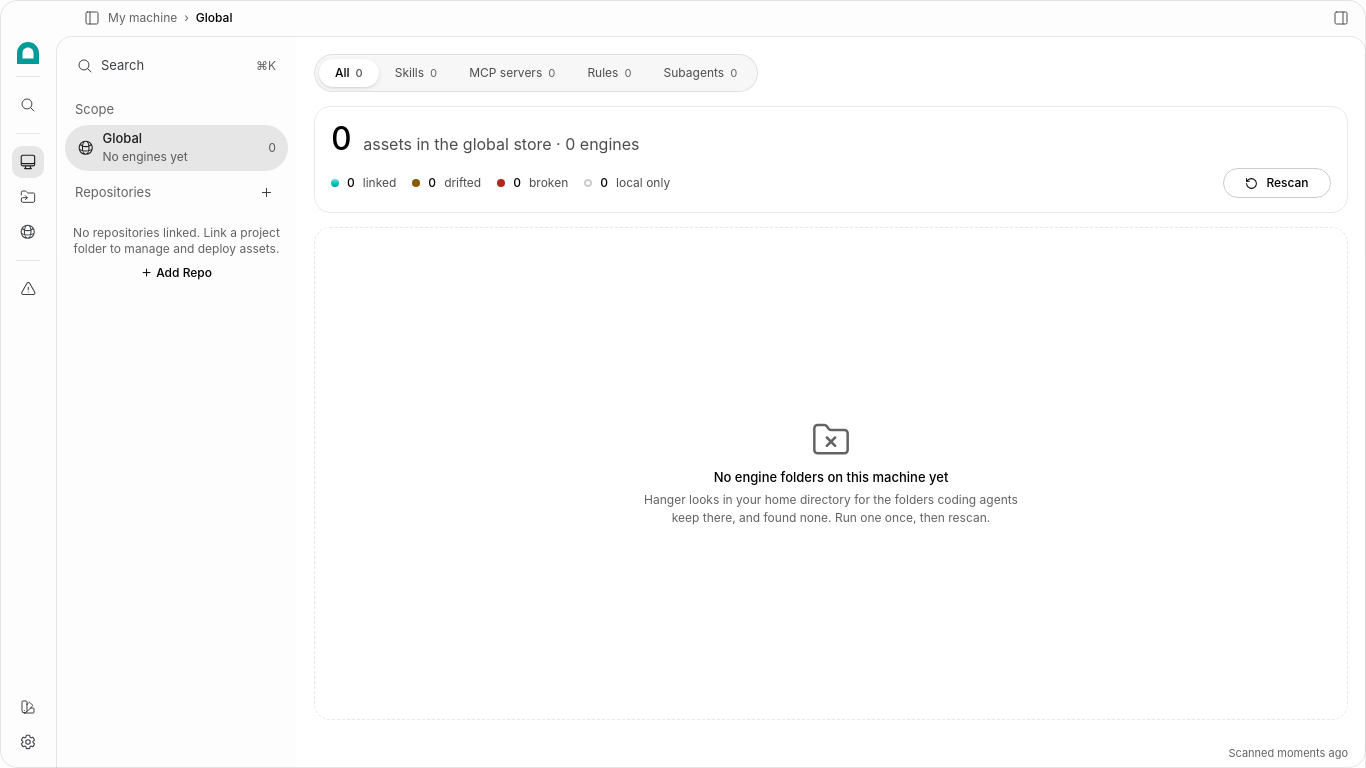
Test: Icon rail › Design system: a dev-build entry beside Settings that opens the page whole
The width and height of the screenshot is (1366, 768).
Click the button named "Design system": (28, 707) [12,691,44,723]
(page scrolled)
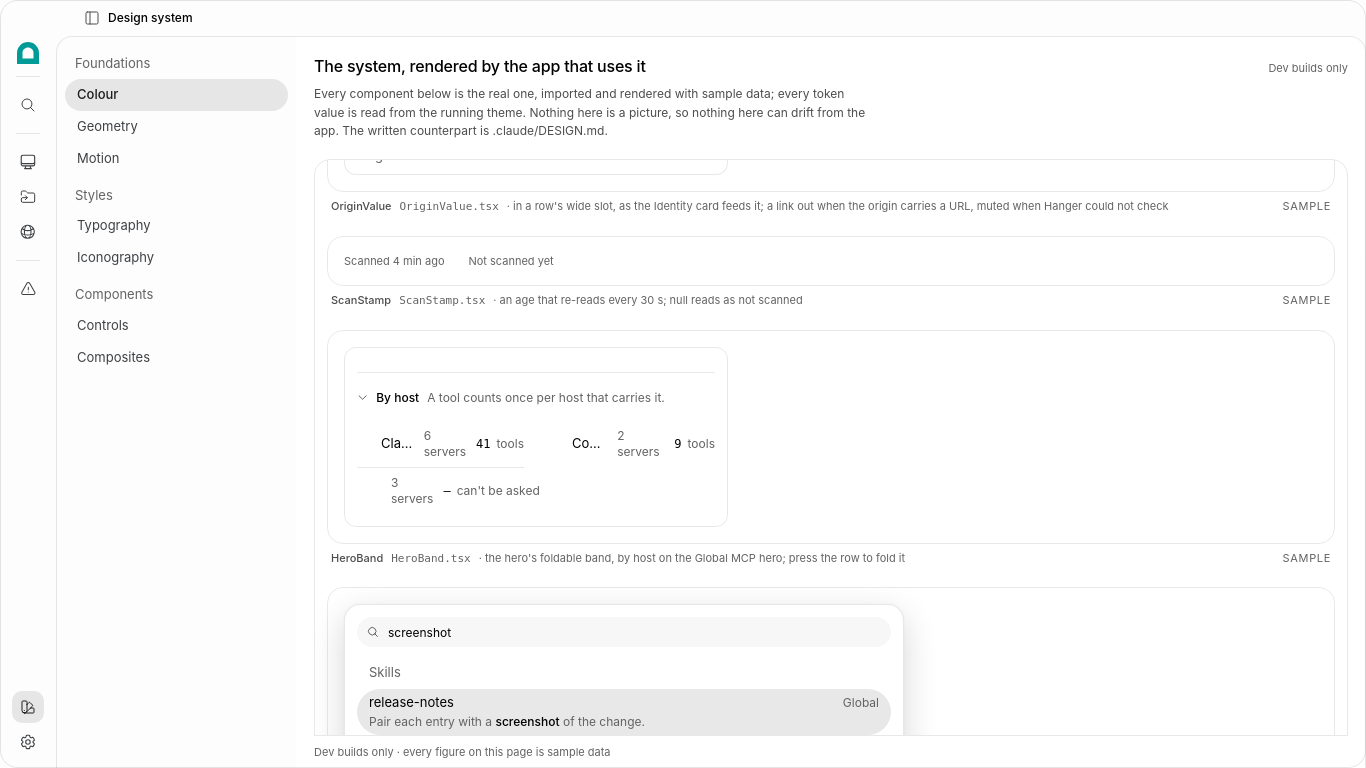
Result: the element with test id "design-sidebar" is shown at [56,36,296,767]
Result: the element with test id "sidebar" is gone
Result: the heading "The system, rendered by the app that uses it" is shown at [314,54,646,78]
